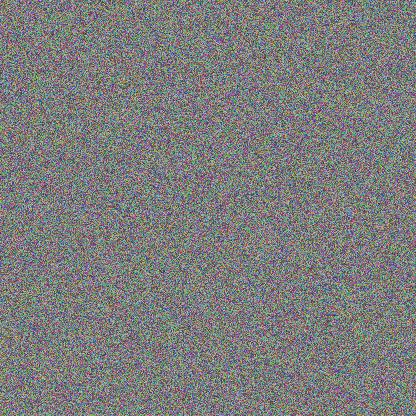empty: (214, 23, 285, 148), (267, 86, 316, 196)
occupied: (200, 112, 279, 185)
